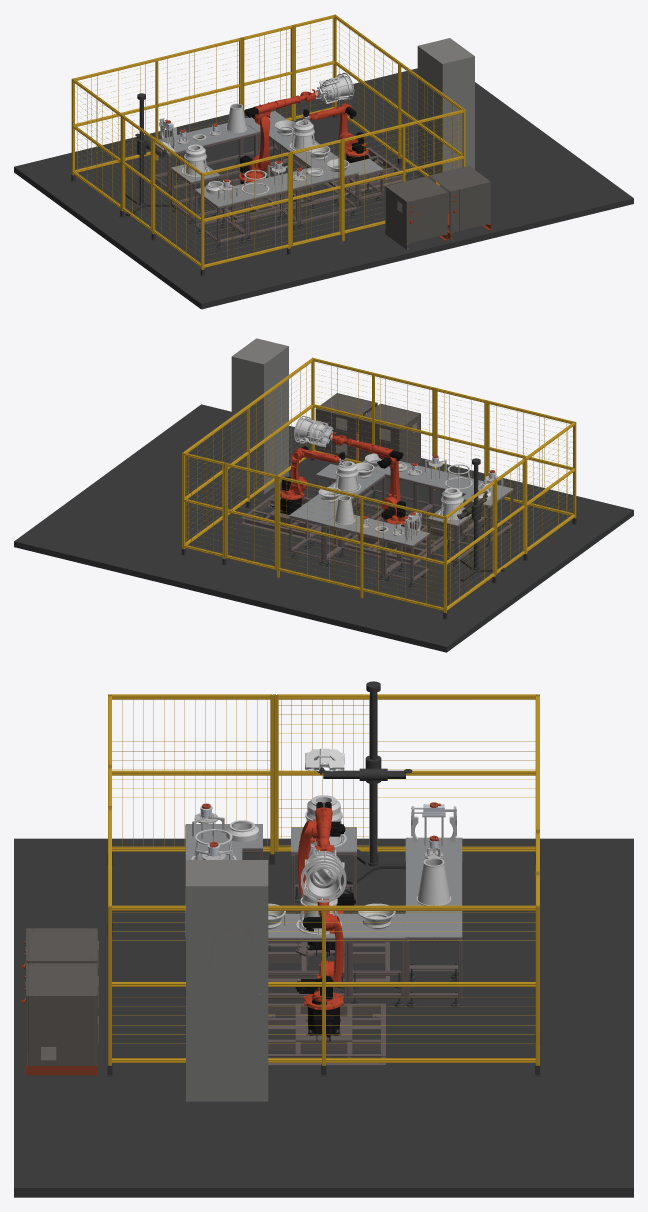
3 views of the same model, one above another, from view 1: azimuth 30°, elevation 25°; view 2: azimuth 150°, elevation 25°; view 3: azimuth 270°, elevation 25° (orthographic). The views are drawn at different scales.
Visible parts, largest first — view 1: ground, Fencing, ElectricalCabinet, Brackets, RobotControlCabinet, Desktop, Shelves, Robot_B_joint2, Positioning, KZD; view 2: ground, Fencing, ElectricalCabinet, Brackets, RobotControlCabinet, Desktop, Shelves, KZD, Positioning; view 3: ground, Fencing, ElectricalCabinet, Brackets, RobotControlCabinet, Desktop, Shelves, KZD, 3D, RobotControlCabinetButtons, Robot_S_buttom, Positioning (+1 smaller).
Part boxes in pixels (bbox=[...]): ground: bbox=[14, 68, 633, 309]; Fencing: bbox=[71, 14, 465, 269]; ElectricalCabinet: bbox=[417, 38, 474, 177]; Brackets: bbox=[155, 132, 406, 243]; RobotControlCabinet: bbox=[385, 166, 490, 249]; Desktop: bbox=[155, 111, 383, 207]; Shelves: bbox=[125, 93, 170, 216]; Robot_B_joint2: bbox=[257, 116, 270, 173]; Positioning: bbox=[162, 125, 324, 200]; KZD: bbox=[226, 103, 246, 133]; ground: bbox=[14, 404, 633, 652]; Fencing: bbox=[182, 357, 576, 612]; ElectricalCabinet: bbox=[231, 338, 288, 494]; Brackets: bbox=[241, 474, 513, 581]; RobotControlCabinet: bbox=[315, 393, 420, 463]; Desktop: bbox=[289, 460, 512, 546]; Shelves: bbox=[457, 458, 504, 581]; KZD: bbox=[334, 495, 355, 525]; Positioning: bbox=[332, 461, 497, 539]; ground: bbox=[14, 838, 633, 1197]; Fencing: bbox=[32, 694, 539, 1065]; ElectricalCabinet: bbox=[186, 860, 268, 1101]; Brackets: bbox=[185, 825, 462, 1065]; RobotControlCabinet: bbox=[26, 928, 98, 1065]; Desktop: bbox=[185, 824, 462, 938]; Shelves: bbox=[317, 681, 412, 884]; KZD: bbox=[416, 857, 451, 905]; 3D: bbox=[305, 748, 344, 771]; RobotControlCabinetButtons: bbox=[20, 940, 97, 1075]; Robot_S_buttom: bbox=[308, 1007, 339, 1042]; Positioning: bbox=[194, 811, 445, 925].
Bounding box in the file's own units: 8 × 2.4 × 6.
